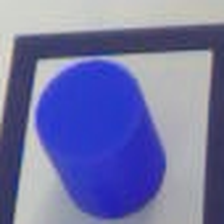cylinder: (24, 51, 186, 222)
